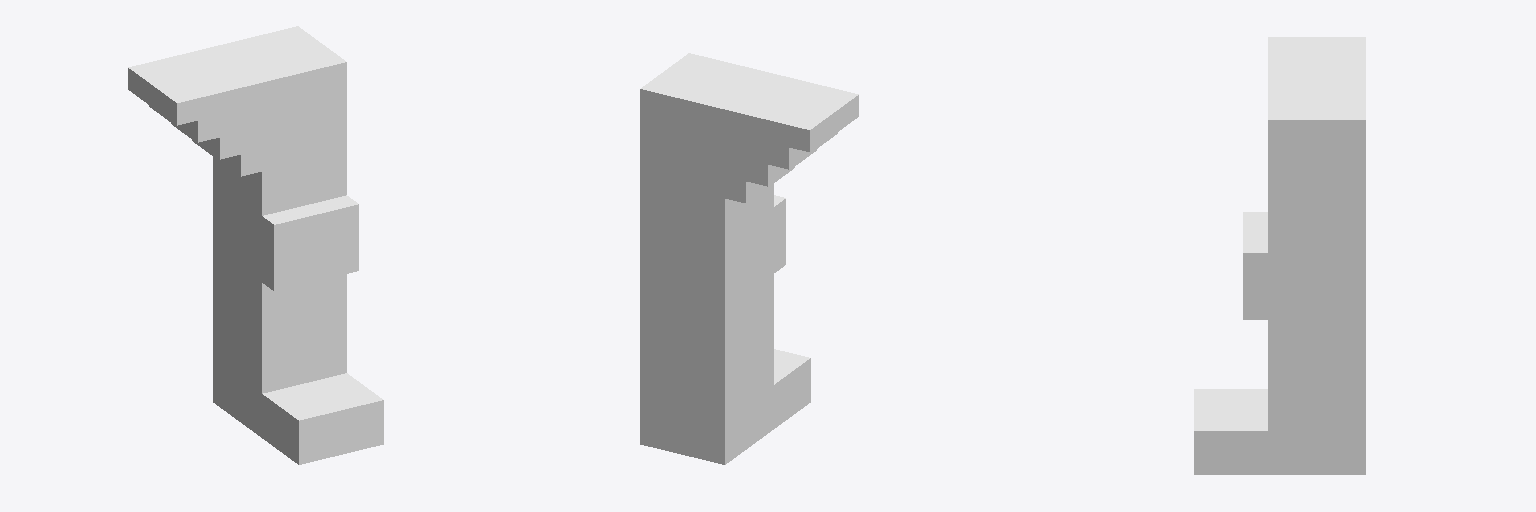
Rendered from CoopSHT-0.obj.
3 renders of one model, left to right at view 1: azimuth 30°, elevation 25°; view 2: azimuth 150°, elevation 25°; view 3: azimuth 270°, elevation 25°, orthographic.
Parts seen in each view (by area): view 1: object 1; view 2: object 1; view 3: object 1.
Part boxes in pixels (bbox=[...]): object 1: bbox=[128, 26, 383, 464]; object 1: bbox=[640, 53, 858, 464]; object 1: bbox=[1194, 37, 1365, 474].
Bounding box in the file's own units: 0.8 × 1.6 × 0.7.